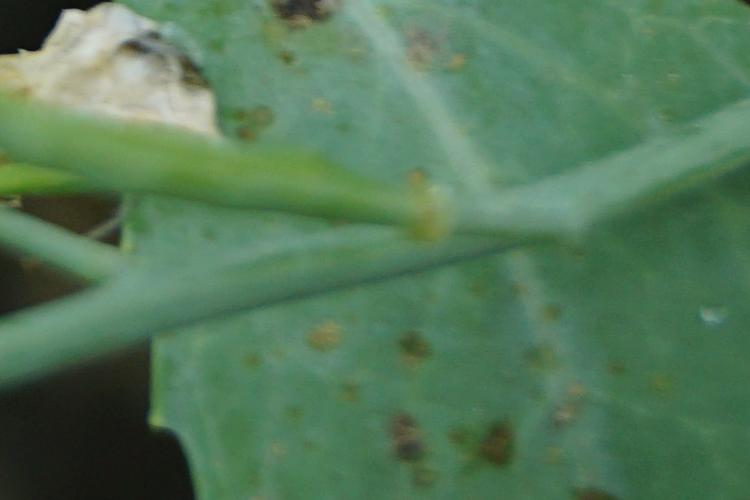pod: (7, 95, 457, 264)
